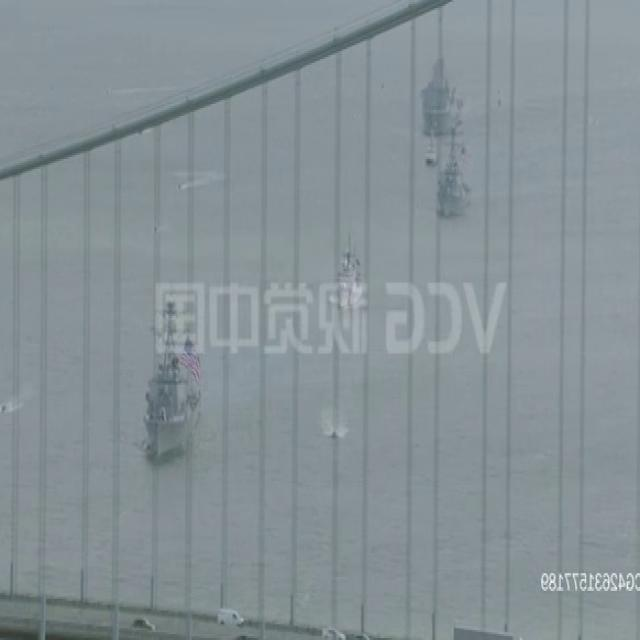houseboat: (424, 138, 442, 166), (327, 425, 344, 445), (0, 395, 9, 416), (176, 176, 183, 193)
navalvessels: (143, 293, 202, 458), (418, 40, 464, 134), (434, 118, 475, 217), (334, 234, 364, 310)
